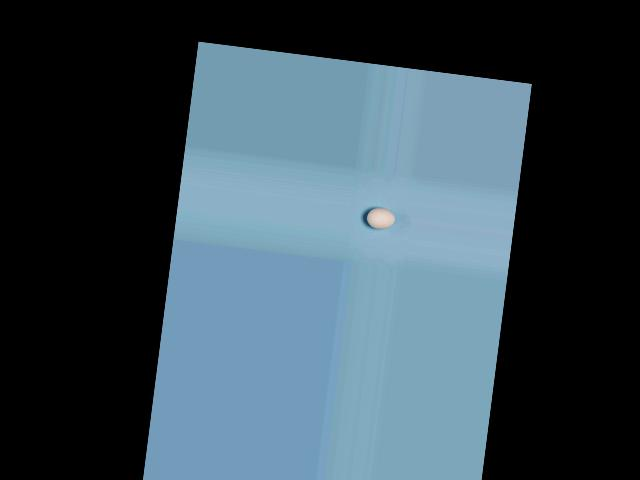egg: (365, 206, 396, 231)
